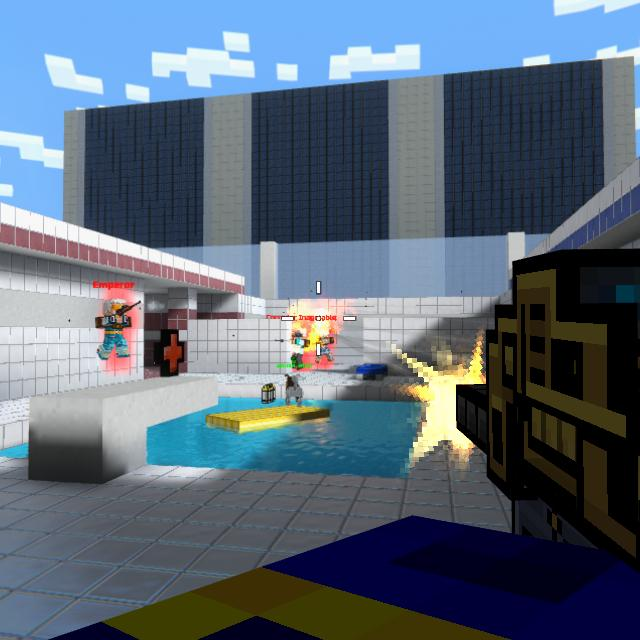Enemy: (94, 298, 132, 360), (311, 328, 335, 364), (290, 326, 310, 368)
